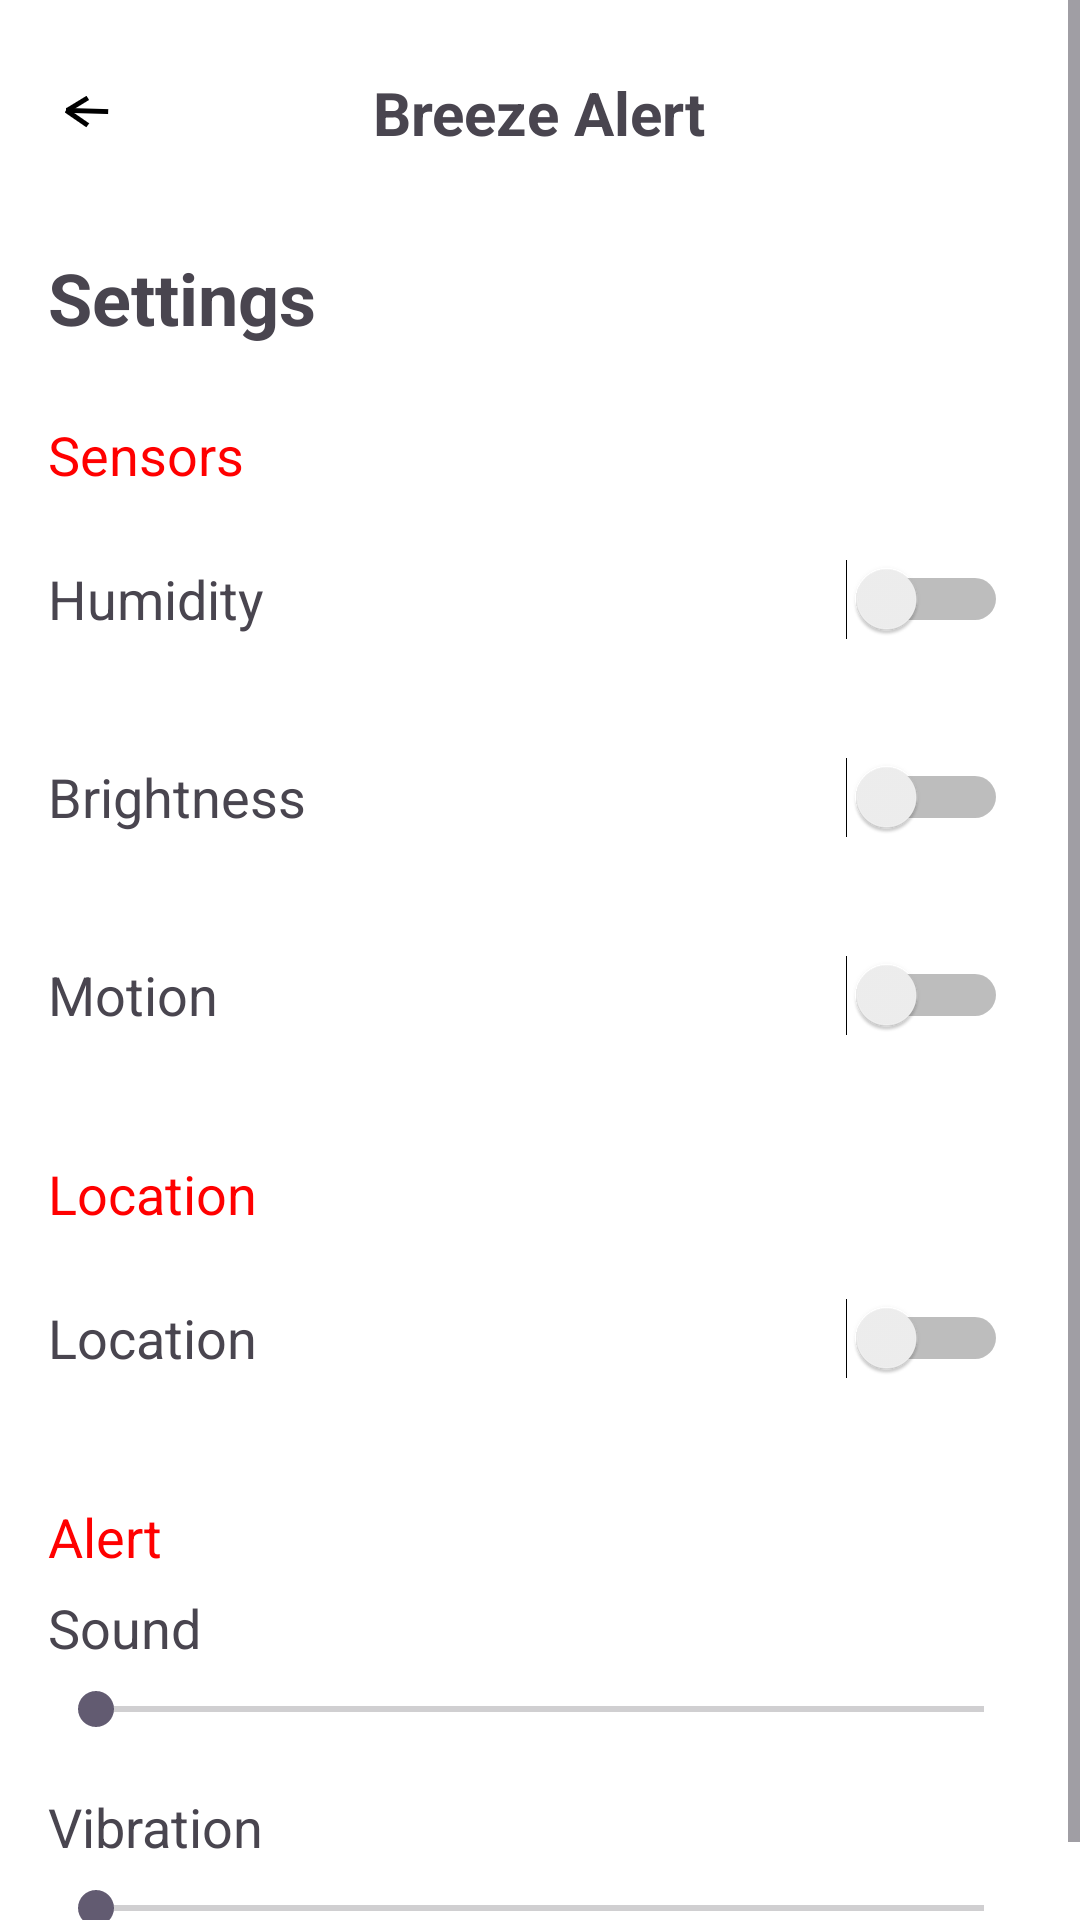

Icons on this 1080x1920 Android screen, each with its box as [x1,y1,x2,y2]:
Back: [65,96,109,127]
